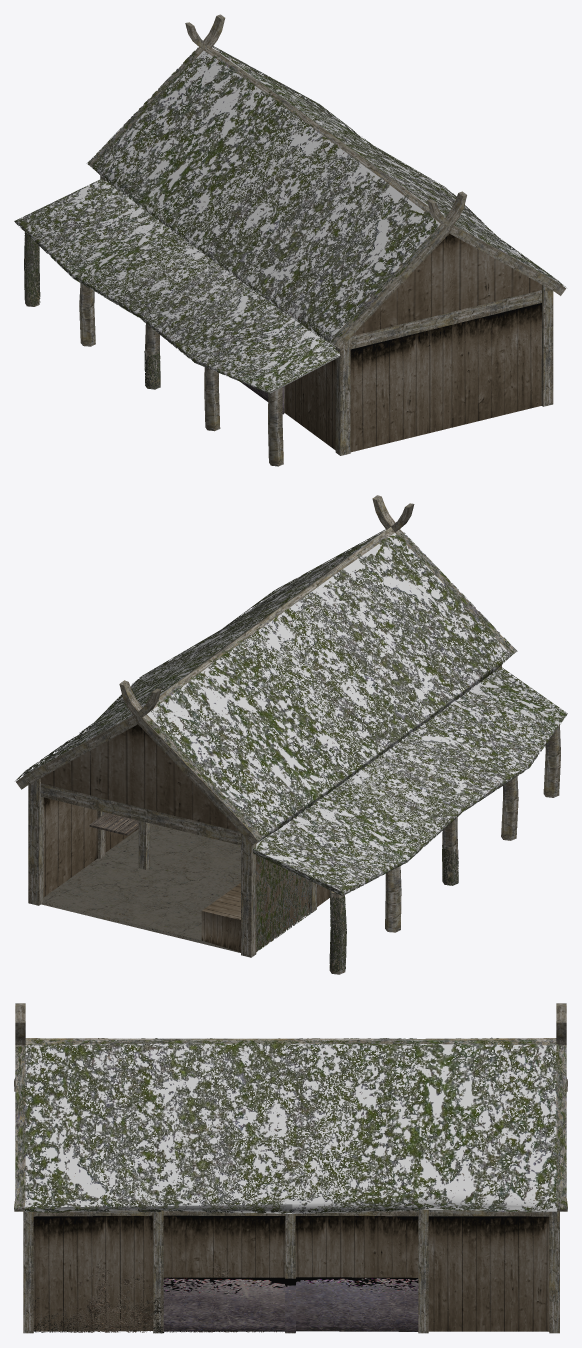
The model's file is Storehouse_LOD02.fbx.
The picture shows the model from 3 angles, top to bottom: view 1: azimuth 30°, elevation 25°; view 2: azimuth 150°, elevation 25°; view 3: azimuth 270°, elevation 25°; orthographic projection. The views are drawn at different scales.
Parts seen in each view (by area): view 1: Mesh Object; view 2: Mesh Object; view 3: Mesh Object.
Boxes of the visible parts, x1,y1,x2,y2 form: Mesh Object: (14, 14, 566, 466); Mesh Object: (15, 495, 567, 974); Mesh Object: (14, 1003, 567, 1333).
Bounding box in the file's own units: 7.77 × 5.48 × 10.45.
